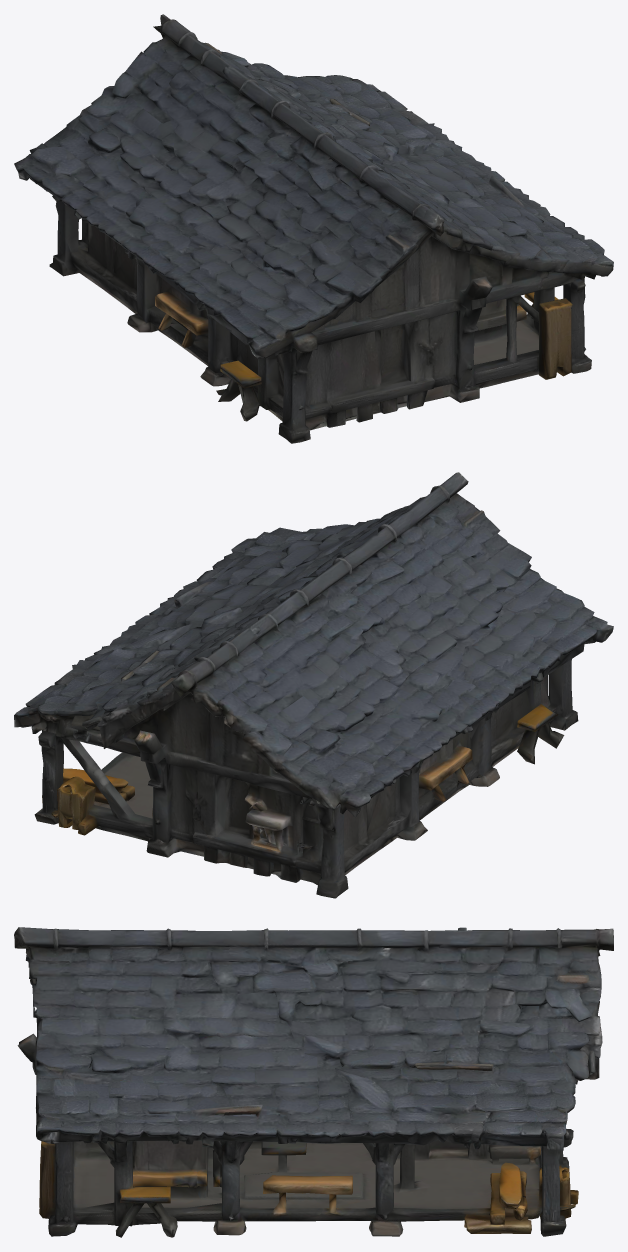
File: townCarpenter.glb
3 renders of one model, top to bottom at view 1: azimuth 30°, elevation 25°; view 2: azimuth 150°, elevation 25°; view 3: azimuth 270°, elevation 25°, orthographic. The views are drawn at different scales.
Visible parts, largest first — view 1: pb_node; view 2: pb_node; view 3: pb_node.
Boxes of the visible parts, x1,y1,x2,y2 form: pb_node: (14,14,613,443); pb_node: (14,472,613,898); pb_node: (14,927,613,1237).
Size of the model in its own units: 0.7452 by 0.4073 by 1.
Materials: 1 (1 with a texture image).
